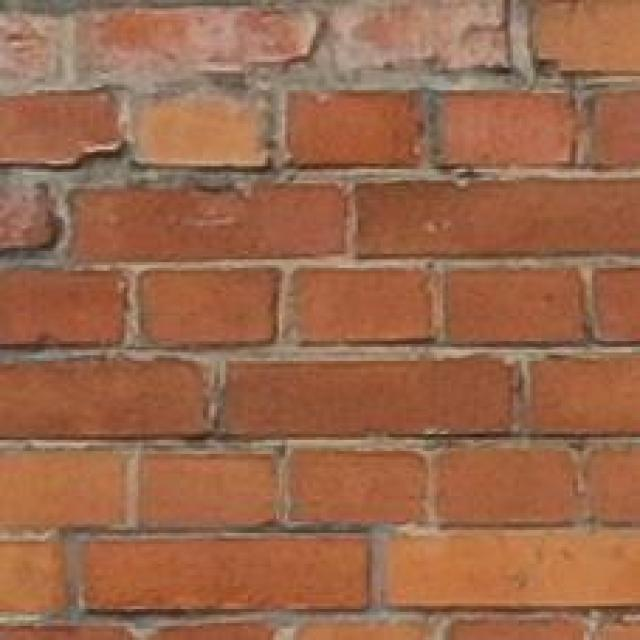Crack: (0, 0, 165, 290)
